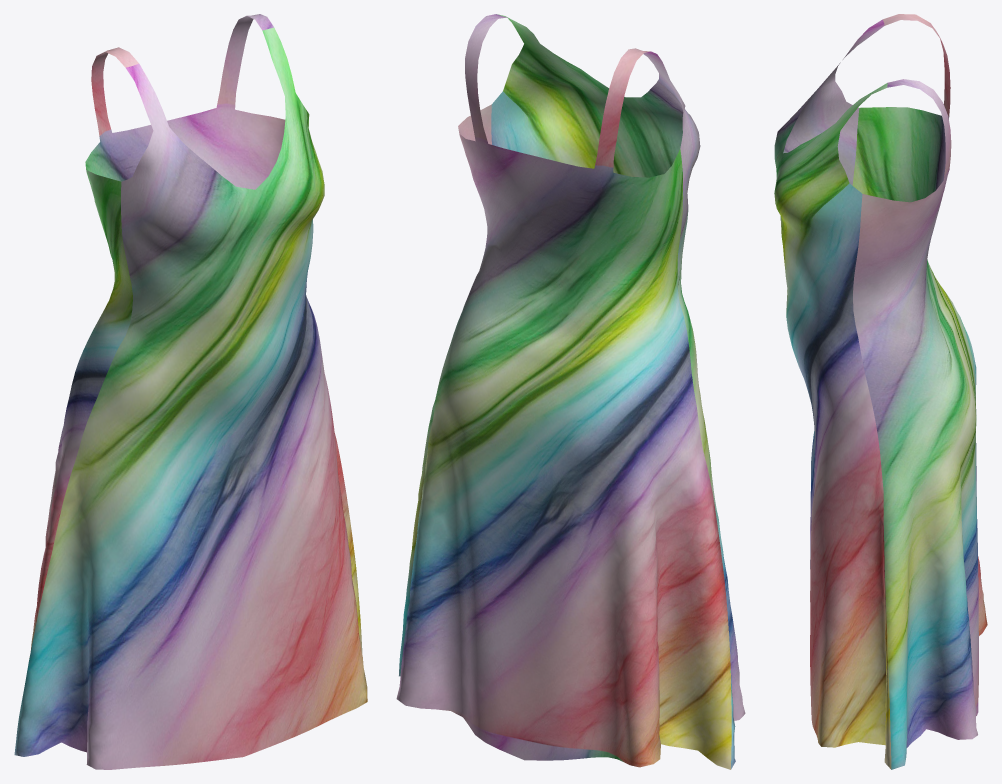
File: FullDress.obj
3 views of the same model, side by side, from view 1: azimuth 30°, elevation 25°; view 2: azimuth 150°, elevation 25°; view 3: azimuth 270°, elevation 25° (orthographic). The views are drawn at different scales.
Visible parts, largest first — view 1: FullDress_Cloth_Shape.004; view 2: FullDress_Cloth_Shape.004; view 3: FullDress_Cloth_Shape.004.
Boxes of the visible parts, <box> form: FullDress_Cloth_Shape.004: <box>14,14,367,769</box>; FullDress_Cloth_Shape.004: <box>396,14,745,769</box>; FullDress_Cloth_Shape.004: <box>774,14,987,769</box>.
Bounding box in the file's own units: 2.5 × 4.88 × 1.44.
